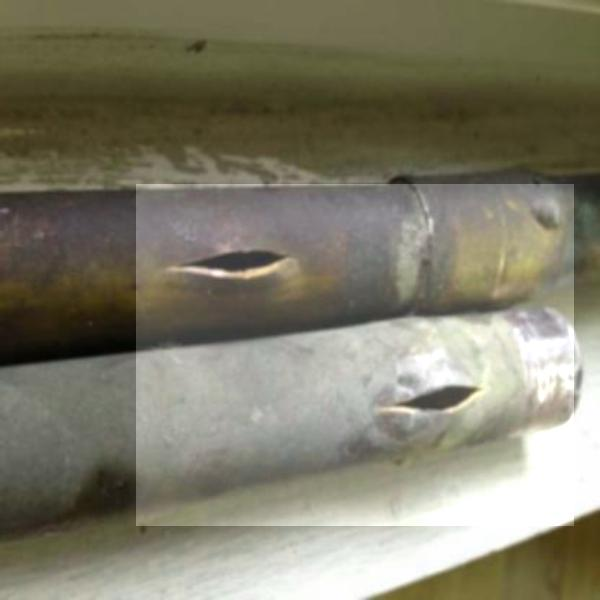crack: (136, 184, 574, 526)
